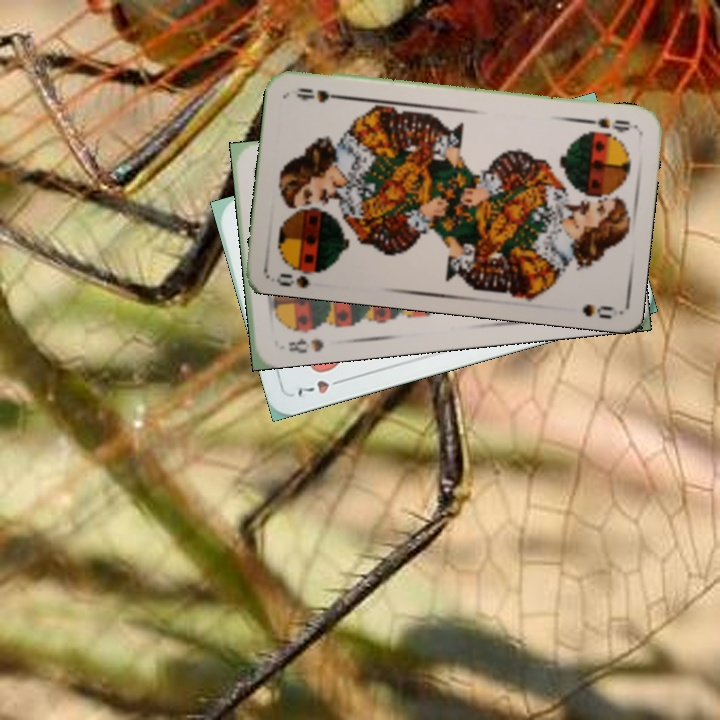H7: (293, 374, 349, 400)
S8: (284, 334, 327, 356)
SO: (272, 260, 330, 290), (578, 114, 637, 135)
